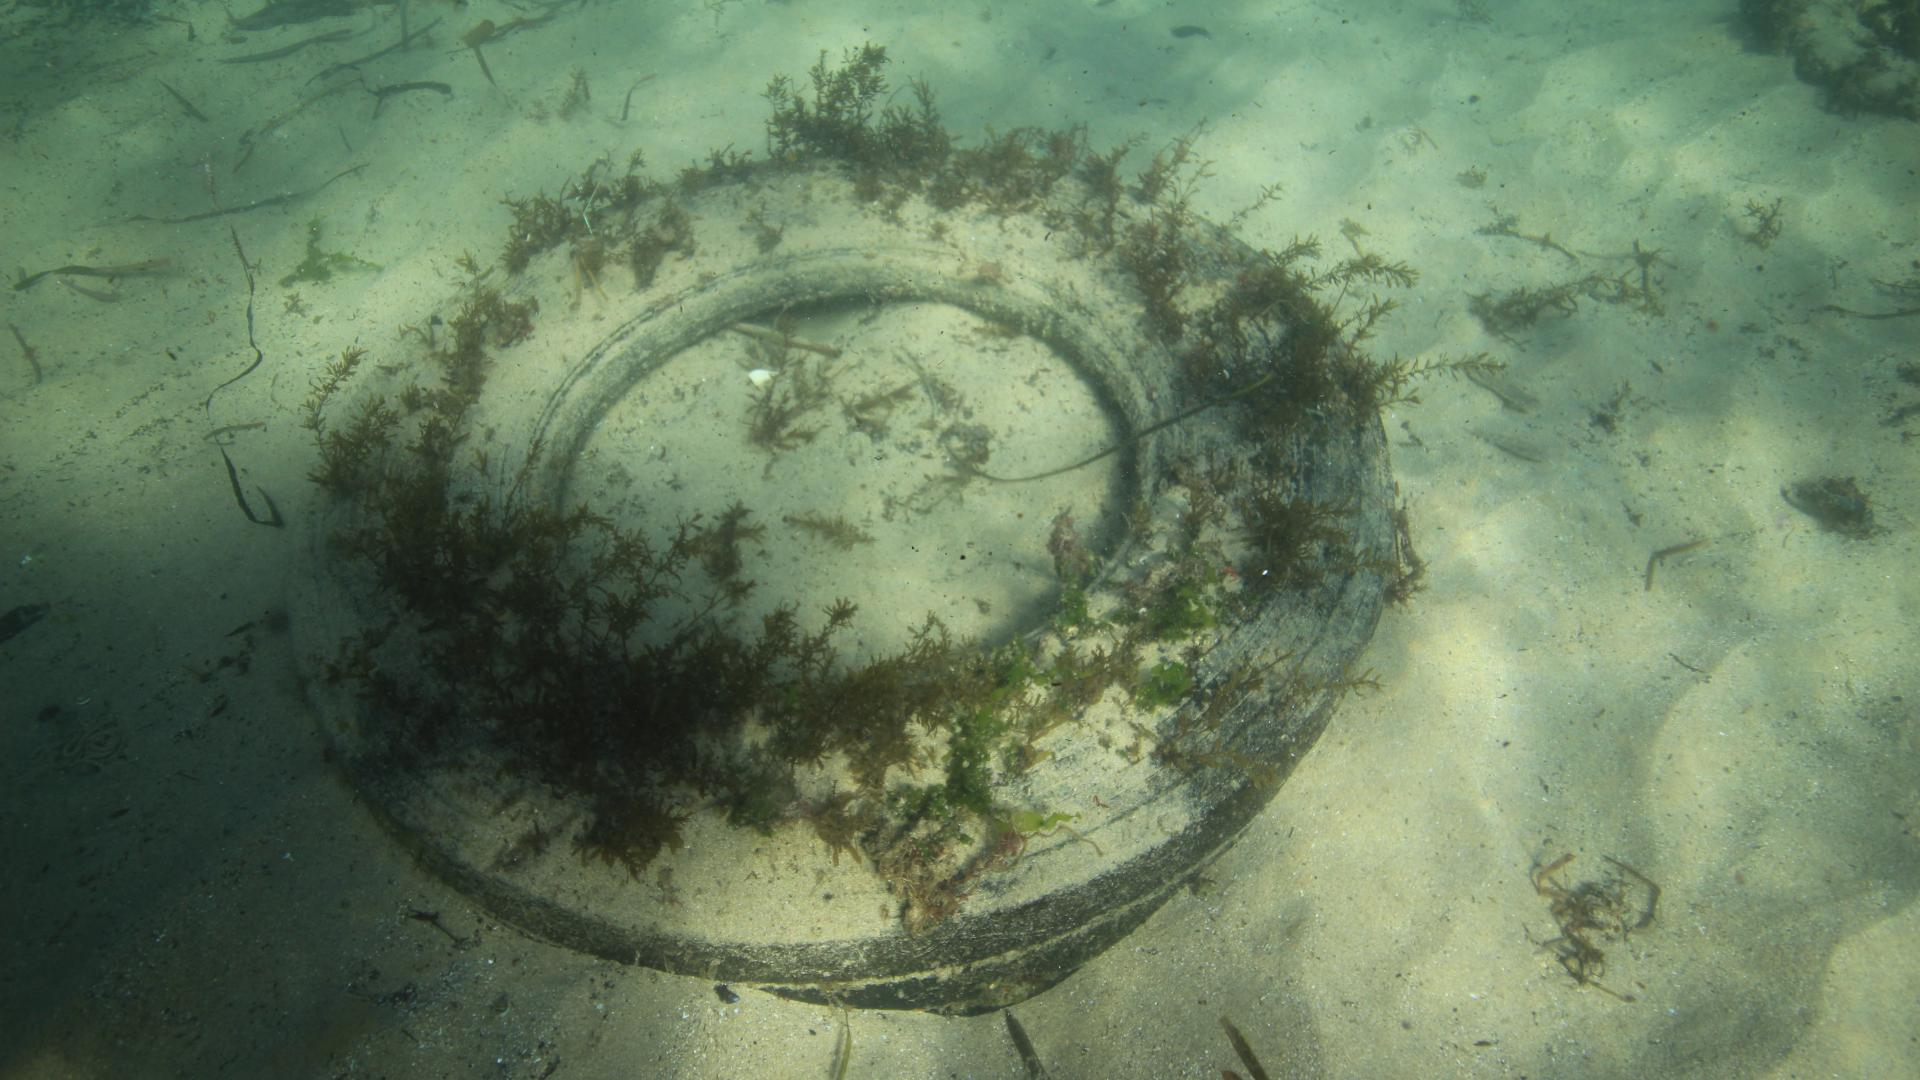tire: (281, 153, 1396, 1014)
